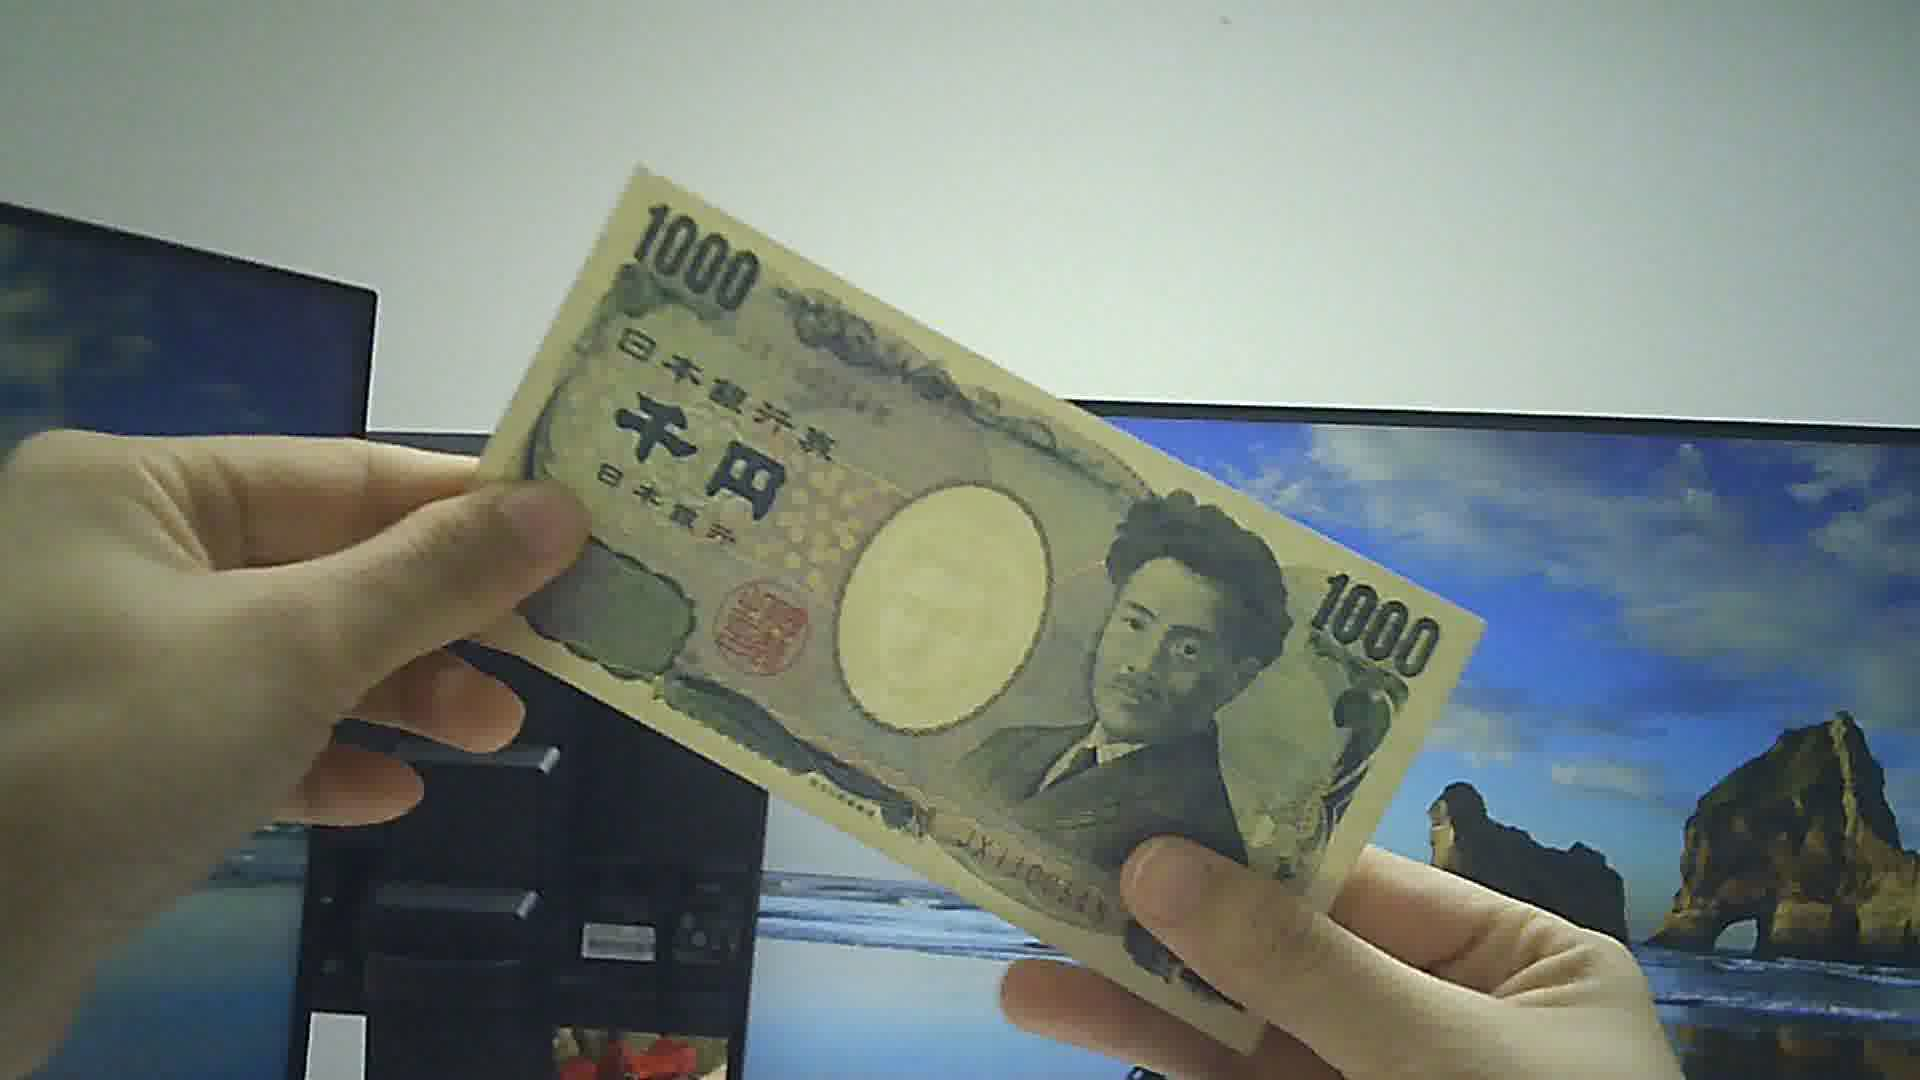1,000 Yen: (425, 156, 1464, 1048)
